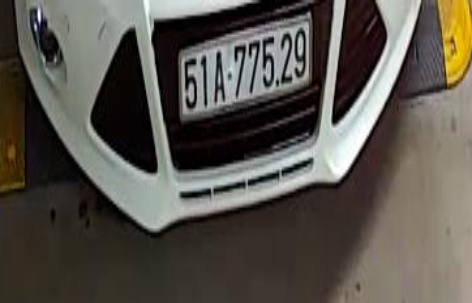plate: (172, 28, 315, 116)
